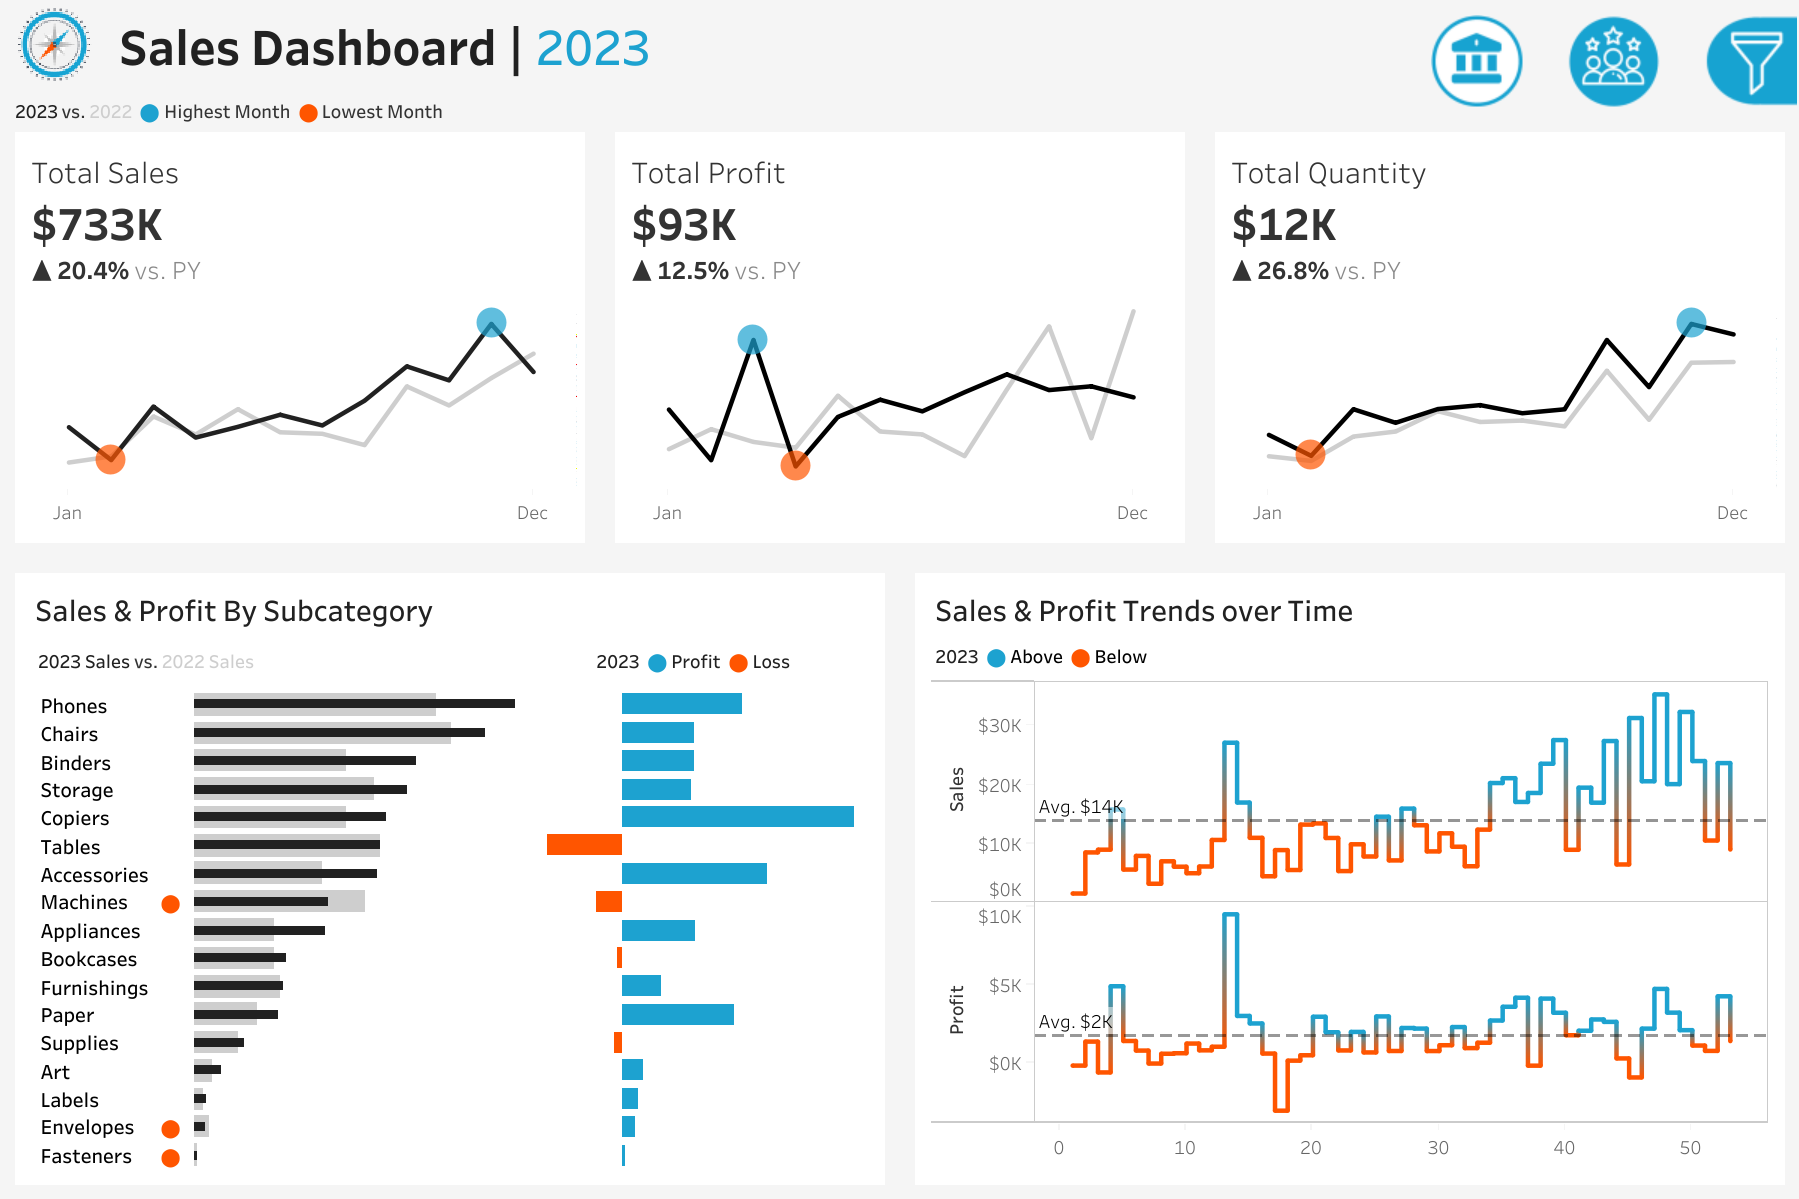

The page's visual inventory and layout, read from the dashboard file:
{"tool":"tableau","page":{"name":"Sales Dashboard","canvas":[1200,800],"ordinal":1},"visuals":[{"type":"image","param":"Image/Icon - Logo.png","box":[0,0,73,59]},{"type":"text","box":[73,0,820,59]},{"type":"dashboard-object","box":[940,6,91,70]},{"type":"dashboard-object","box":[1031,6,91,70]},{"type":"blank","box":[952,10,237,86]},{"type":"worksheet","title":"Legend KPI","mark":"Automatic","box":[0,59,1200,29]},{"type":"worksheet","title":"KPI Sales","mark":"Automatic","rows":["Calculation_721701895347843083"],"cols":["Order Date"],"box":[0,88,400,284]},{"type":"worksheet","title":"KPI Profit","mark":"Automatic","rows":["Min/Max Sales (copy)_237846410425847814"],"cols":["Order Date"],"box":[400,88,400,284]},{"type":"worksheet","title":"KPI Quantity","mark":"Automatic","rows":["Min/Max Sales (copy) (copy)_237846410425856007"],"cols":["Order Date"],"box":[800,88,400,284]},{"type":"text","box":[952,96,237,37]},{"type":"parameter","param":"[Parameters].[Parameter 1]","box":[952,133,237,55]},{"type":"text","box":[952,188,237,32]},{"type":"filter","title":"KPI Sales","param":"[federated.1kpxa041aiai2y1cl4pui1t4eju9].[none:Category:nk]","box":[952,220,237,57]},{"type":"filter","title":"KPI Sales","param":"[federated.1kpxa041aiai2y1cl4pui1t4eju9].[none:Sub-Category:nk]","box":[952,277,237,57]},{"type":"blank","box":[952,334,237,60]},{"type":"text","box":[17,389,566,47]},{"type":"text","box":[617,389,566,47]},{"type":"text","box":[952,394,237,32]},{"type":"filter","title":"KPI Sales","param":"[federated.1kpxa041aiai2y1cl4pui1t4eju9].[none:Region:nk]","box":[952,426,237,57]},{"type":"worksheet","title":"Legend Subcategory","mark":"Automatic","box":[17,436,374,32]},{"type":"text","box":[391,436,192,32]},{"type":"text","box":[617,436,566,33]},{"type":"worksheet","title":"Subcategory Comparison","mark":"Bar","rows":["Sub-Category","Calculation_2435040078806671369"],"cols":["CY Sales (copy)_721701895335804930","Calculation_721701895334993921","CY Sales (copy)_237846410424180736"],"box":[17,468,566,315]},{"type":"worksheet","title":"Weekly Trends","mark":"Automatic","rows":["Calculation_721701895334993921","CY Sales (copy)_237846410424180736"],"cols":["Order Date"],"box":[617,469,566,314]},{"type":"filter","title":"KPI Sales","param":"[federated.1kpxa041aiai2y1cl4pui1t4eju9].[none:State:nk]","box":[952,483,237,57]},{"type":"filter","title":"KPI Sales","param":"[federated.1kpxa041aiai2y1cl4pui1t4eju9].[none:City:nk]","box":[952,540,237,57]}]}

Visuals, with their boxes in screenshot pixels (x1, y1, x2, y2), scaled from the page's 1200x800 canvas onto the 1799x1199 screenshot:
image: (0, 0, 109, 88)
text: (109, 0, 1339, 88)
dashboard-object: (1409, 9, 1546, 114)
dashboard-object: (1546, 9, 1682, 114)
blank: (1427, 15, 1783, 144)
"Legend KPI" worksheet: (0, 88, 1798, 132)
"KPI Sales" worksheet: (0, 132, 600, 558)
"KPI Profit" worksheet: (600, 132, 1199, 558)
"KPI Quantity" worksheet: (1199, 132, 1798, 558)
text: (1427, 144, 1783, 199)
parameter: (1427, 199, 1783, 282)
text: (1427, 282, 1783, 330)
"KPI Sales" filter: (1427, 330, 1783, 415)
"KPI Sales" filter: (1427, 415, 1783, 501)
blank: (1427, 501, 1783, 591)
text: (25, 583, 874, 653)
text: (925, 583, 1774, 653)
text: (1427, 591, 1783, 638)
"KPI Sales" filter: (1427, 638, 1783, 724)
"Legend Subcategory" worksheet: (25, 653, 586, 701)
text: (586, 653, 874, 701)
text: (925, 653, 1774, 703)
"Subcategory Comparison" worksheet (Bar marks): (25, 701, 874, 1174)
"Weekly Trends" worksheet: (925, 703, 1774, 1174)
"KPI Sales" filter: (1427, 724, 1783, 809)
"KPI Sales" filter: (1427, 809, 1783, 895)
